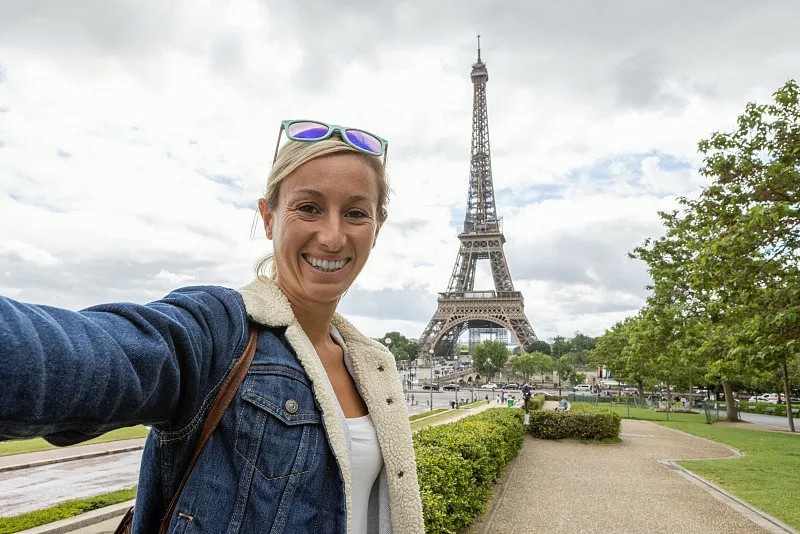Eiffel: (415, 28, 538, 364)
